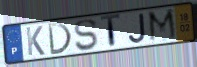D: (46, 21, 74, 56)
J: (128, 12, 148, 45)
K: (24, 25, 46, 57)
M: (146, 7, 179, 45)
S: (73, 18, 98, 53)
T: (99, 12, 121, 50)
